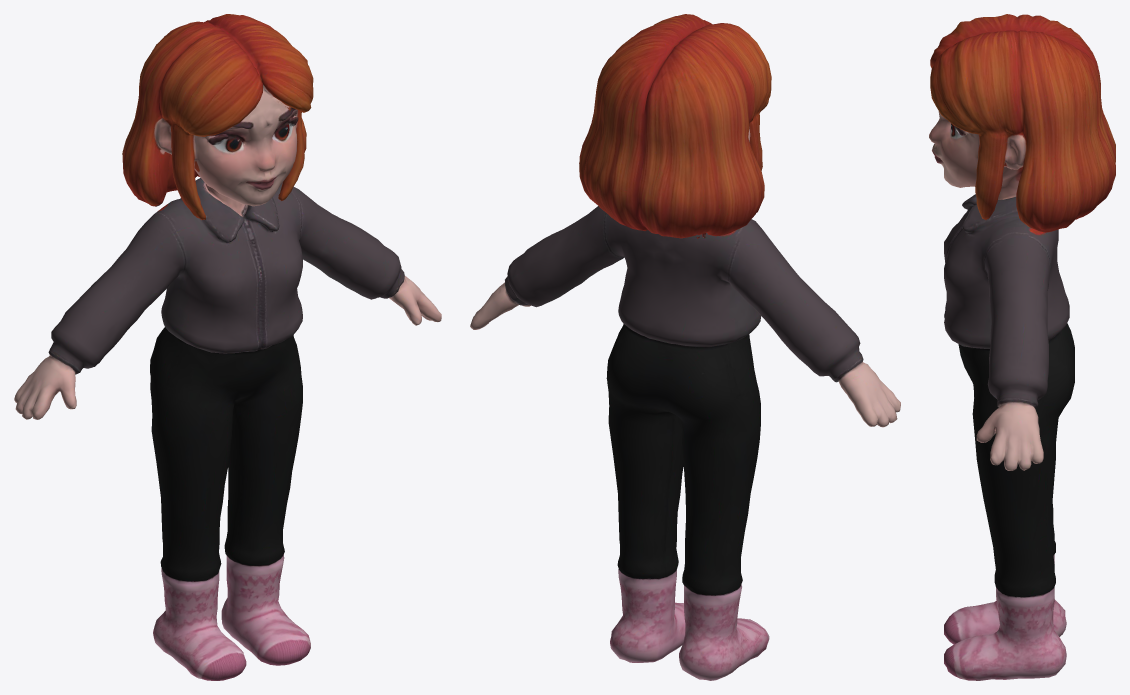
The model's file is girl.glb.
3 views of the same model, side by side, from view 1: azimuth 30°, elevation 25°; view 2: azimuth 150°, elevation 25°; view 3: azimuth 270°, elevation 25° (orthographic).
Parts seen in each view (by area): view 1: aiprintgen_node_8efb226f-e6bf-4b44-89b3-; view 2: aiprintgen_node_8efb226f-e6bf-4b44-89b3-; view 3: aiprintgen_node_8efb226f-e6bf-4b44-89b3-.
Part boxes in pixels (x1,y1,x2,y2): aiprintgen_node_8efb226f-e6bf-4b44-89b3-: (14,14,441,680); aiprintgen_node_8efb226f-e6bf-4b44-89b3-: (470,14,900,680); aiprintgen_node_8efb226f-e6bf-4b44-89b3-: (929,14,1115,680).
Size of the model in its own units: 0.6934 by 0.998 by 0.2676.
1 material, 1 textured.
